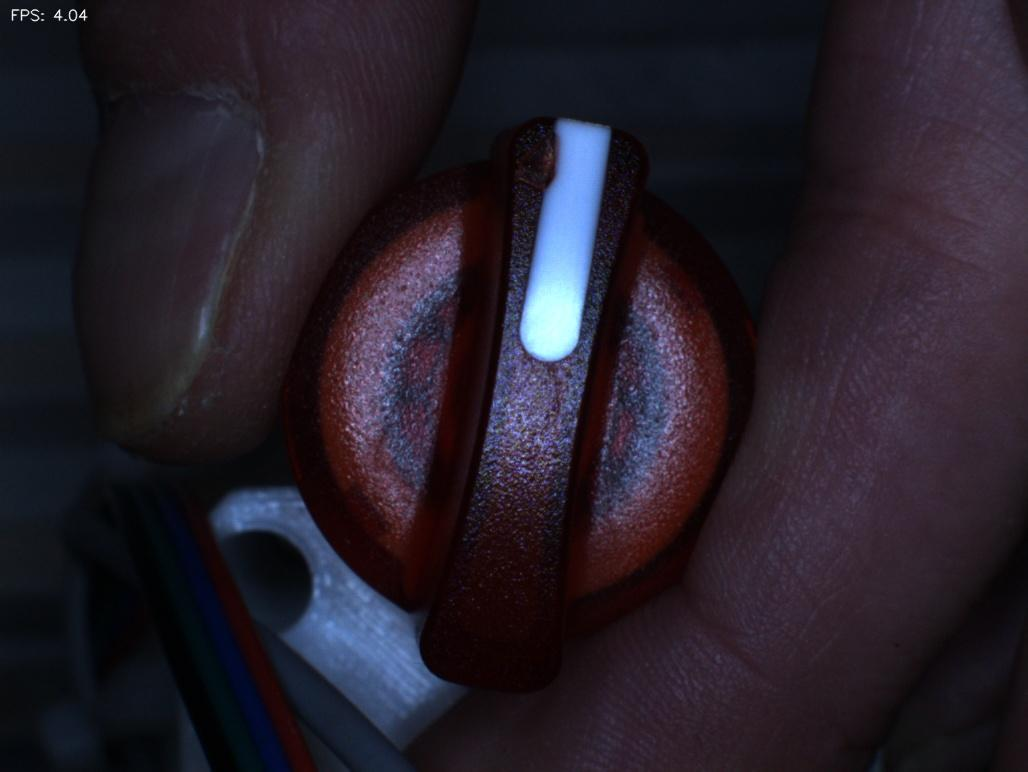Choc: (483, 107, 580, 198)
